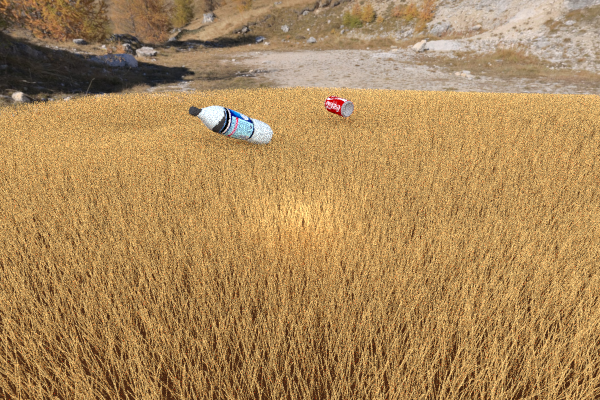Plastic Bottle: (188, 105, 273, 145), (324, 95, 353, 117)
